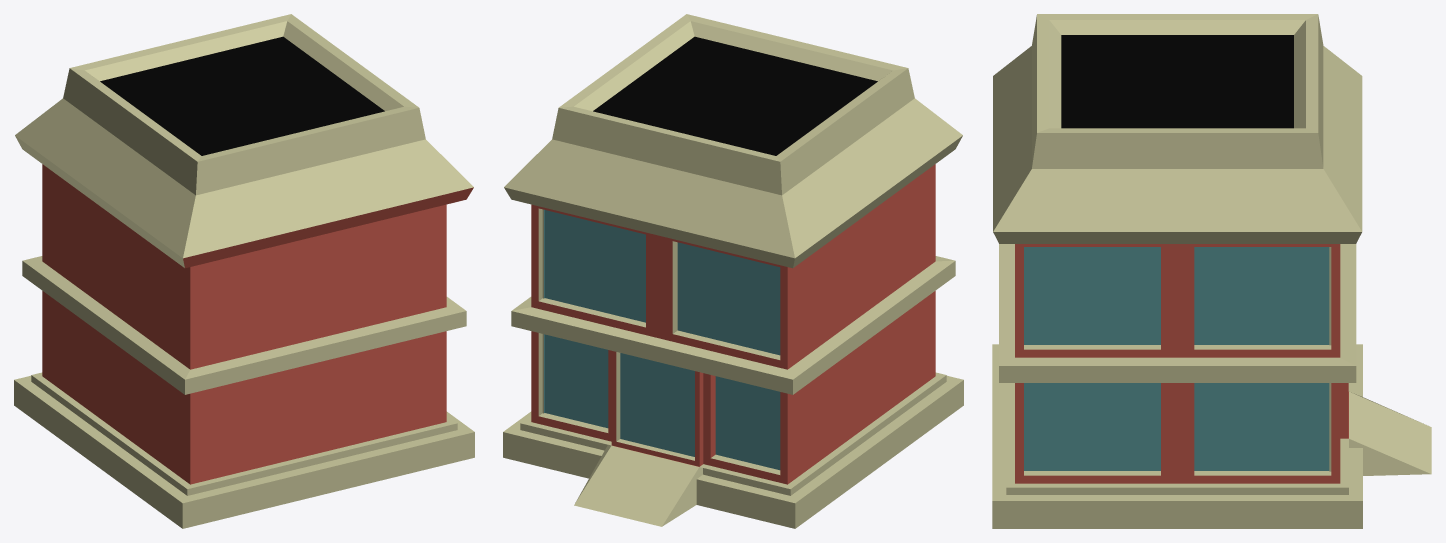
Rendered from NewSchool2.fbx.
3 views of the same model, side by side, from view 1: azimuth 30°, elevation 25°; view 2: azimuth 150°, elevation 25°; view 3: azimuth 270°, elevation 25° (orthographic). The views are drawn at different scales.
Visible parts, largest first — view 1: S2; view 2: S2; view 3: S2.
Part boxes in pixels (left/top/right/bottom): S2: left=14, top=14, right=474, bottom=528; S2: left=503, top=14, right=963, bottom=528; S2: left=992, top=14, right=1431, bottom=528.
Bounding box in the file's own units: 6.84 × 7.68 × 8.11.
